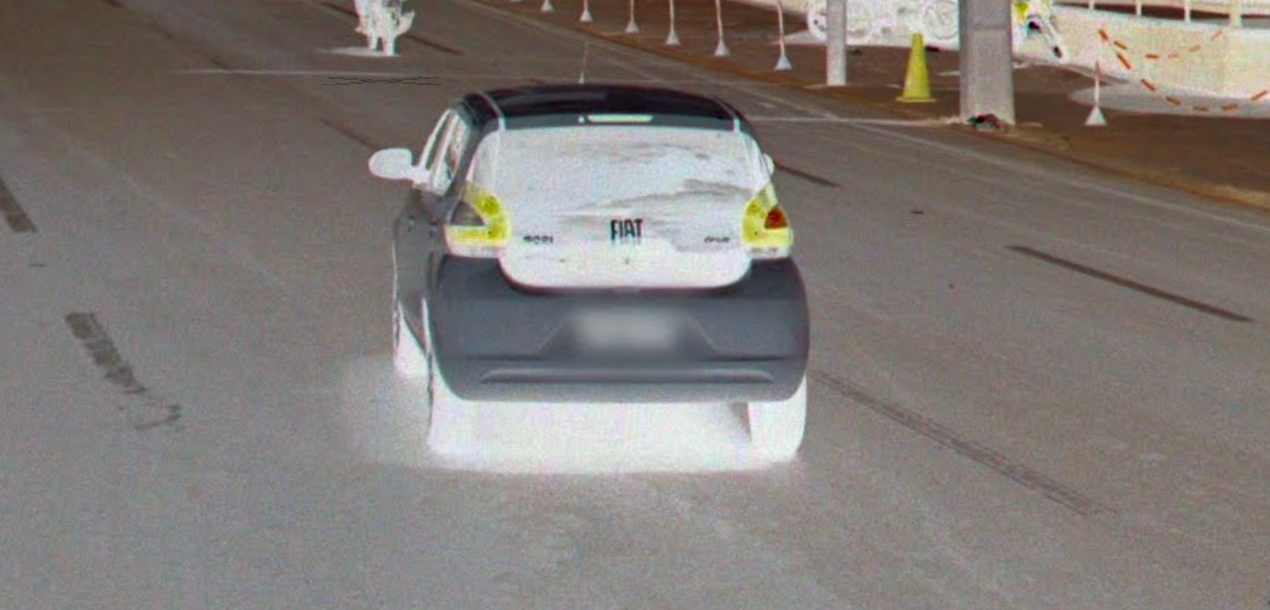car: (362, 34, 820, 473)
